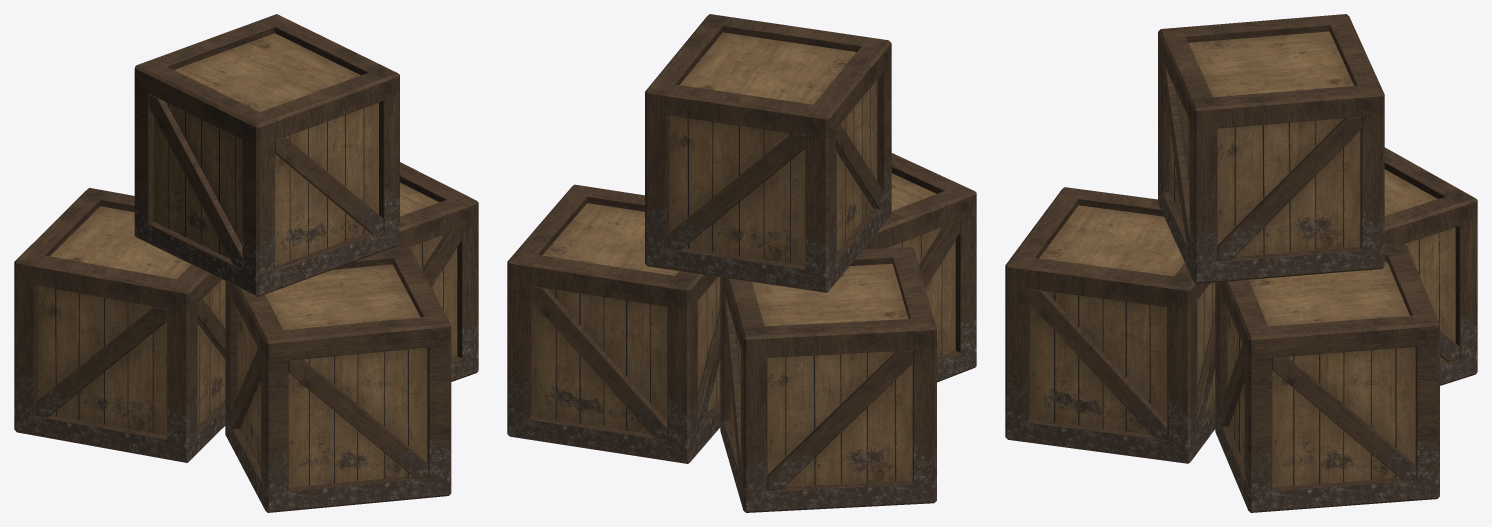
Rendered from Pile_Of_Crates-Basic_001.fbx.
3 views of the same model, side by side, from view 1: azimuth 30°, elevation 25°; view 2: azimuth 150°, elevation 25°; view 3: azimuth 270°, elevation 25° (orthographic). The views are drawn at different scales.
Visible parts, largest first — view 1: Crate_Main.003, Crate_Main, Crate_Main.001, Crate_Main.002, Plank, Plank.003, Plank.006, Plank.007, Plank.001, Plank.005, Plank.002; view 2: Crate_Main.003, Crate_Main.001, Crate_Main.002, Crate_Main, Plank.002, Plank.005, Plank.007, Plank.006, Plank.003, Plank.004, Plank.001; view 3: Crate_Main.003, Crate_Main.002, Crate_Main, Crate_Main.001, Plank.001, Plank.006, Plank.004, Plank.007, Plank, Plank.005.
Boxes of the visible parts, bbox=[...] form: Crate_Main.003: bbox=[134, 14, 399, 296]; Crate_Main: bbox=[225, 247, 451, 512]; Crate_Main.001: bbox=[14, 188, 225, 462]; Crate_Main.002: bbox=[391, 162, 478, 381]; Plank: bbox=[288, 359, 428, 478]; Plank.003: bbox=[35, 307, 167, 417]; Plank.006: bbox=[149, 94, 242, 269]; Plank.007: bbox=[275, 137, 383, 234]; Plank.001: bbox=[230, 348, 260, 429]; Plank.005: bbox=[422, 228, 461, 286]; Plank.002: bbox=[197, 299, 225, 359]; Crate_Main.003: bbox=[645, 14, 891, 292]; Crate_Main.001: bbox=[720, 247, 936, 512]; Crate_Main.002: bbox=[507, 184, 720, 463]; Crate_Main: bbox=[863, 153, 976, 382]; Plank.002: bbox=[767, 350, 913, 490]; Plank.005: bbox=[529, 285, 667, 439]; Plank.007: bbox=[667, 133, 805, 250]; Plank.006: bbox=[836, 124, 884, 209]; Plank.003: bbox=[723, 288, 740, 481]; Plank.004: bbox=[697, 309, 720, 432]; Plank.001: bbox=[919, 220, 960, 288]; Crate_Main.003: bbox=[1158, 14, 1384, 283]; Crate_Main.002: bbox=[1215, 244, 1439, 512]; Crate_Main: bbox=[1005, 187, 1215, 463]; Crate_Main.001: bbox=[1384, 147, 1477, 385]; Plank.001: bbox=[1027, 289, 1167, 439]; Plank.006: bbox=[1217, 117, 1361, 261]; Plank.004: bbox=[1272, 356, 1416, 480]; Plank.007: bbox=[1162, 60, 1189, 252]; Plank: bbox=[1197, 312, 1215, 432]; Plank.005: bbox=[1219, 344, 1244, 426].
Size of the model in its own units: 372 by 300 by 364.
